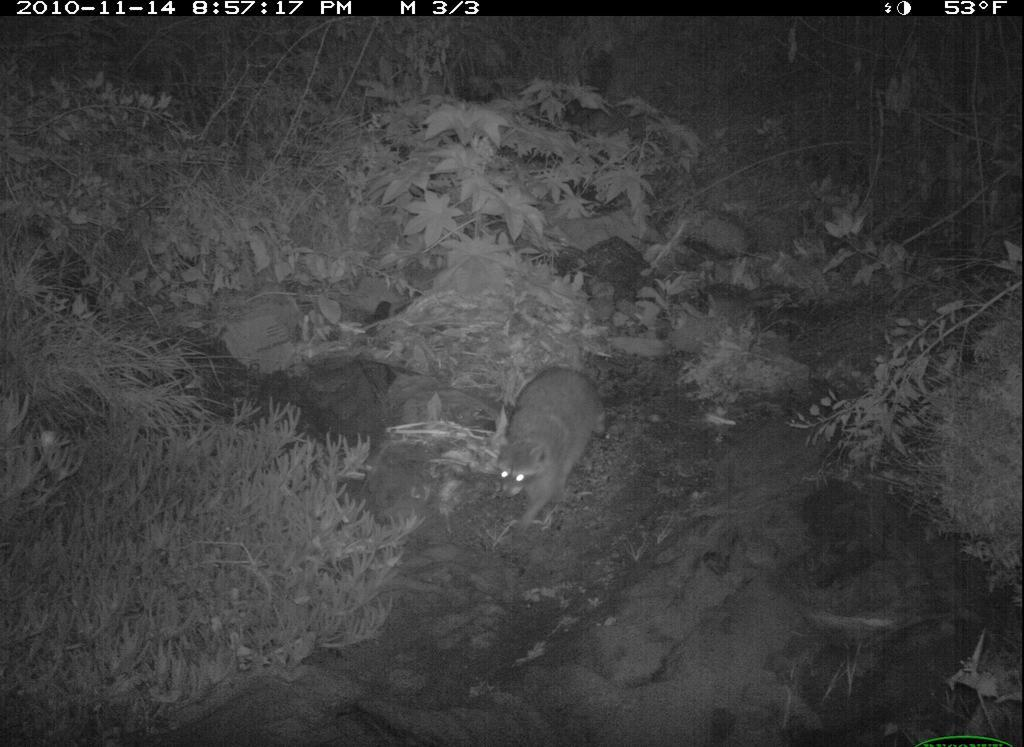raccoon: (463, 349, 609, 532)
